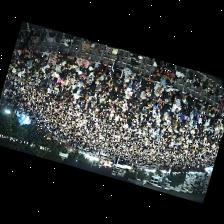person: (111, 54, 123, 79), (155, 77, 166, 95), (142, 76, 155, 91), (151, 86, 162, 103), (173, 91, 181, 113), (77, 56, 90, 69), (124, 67, 136, 81), (163, 86, 176, 98), (164, 98, 172, 117), (98, 60, 108, 75), (155, 97, 164, 113), (104, 69, 113, 85), (56, 51, 67, 63), (132, 72, 142, 85), (132, 79, 142, 92), (140, 85, 150, 98), (155, 82, 165, 95), (125, 83, 133, 98), (66, 55, 76, 67), (181, 109, 189, 124), (134, 97, 143, 110), (41, 48, 50, 61), (66, 68, 76, 79), (121, 75, 130, 87), (181, 92, 188, 107), (195, 99, 203, 112), (187, 96, 195, 109), (96, 74, 105, 85), (82, 78, 91, 89), (70, 62, 79, 73), (113, 79, 122, 90), (75, 71, 83, 83), (33, 49, 42, 59), (49, 49, 58, 59), (86, 71, 94, 82), (176, 109, 182, 123), (56, 78, 65, 87), (82, 67, 90, 77), (89, 61, 99, 69), (48, 57, 56, 67), (172, 116, 178, 129), (136, 89, 142, 102), (56, 62, 62, 74), (93, 67, 99, 79), (67, 77, 75, 86), (194, 107, 199, 120), (31, 58, 39, 66), (156, 59, 164, 67), (106, 82, 113, 91), (118, 87, 125, 95), (211, 106, 217, 115), (24, 47, 29, 57), (61, 60, 66, 70), (217, 109, 223, 117), (29, 46, 33, 58), (190, 110, 194, 122), (78, 70, 83, 79), (51, 64, 56, 72)
